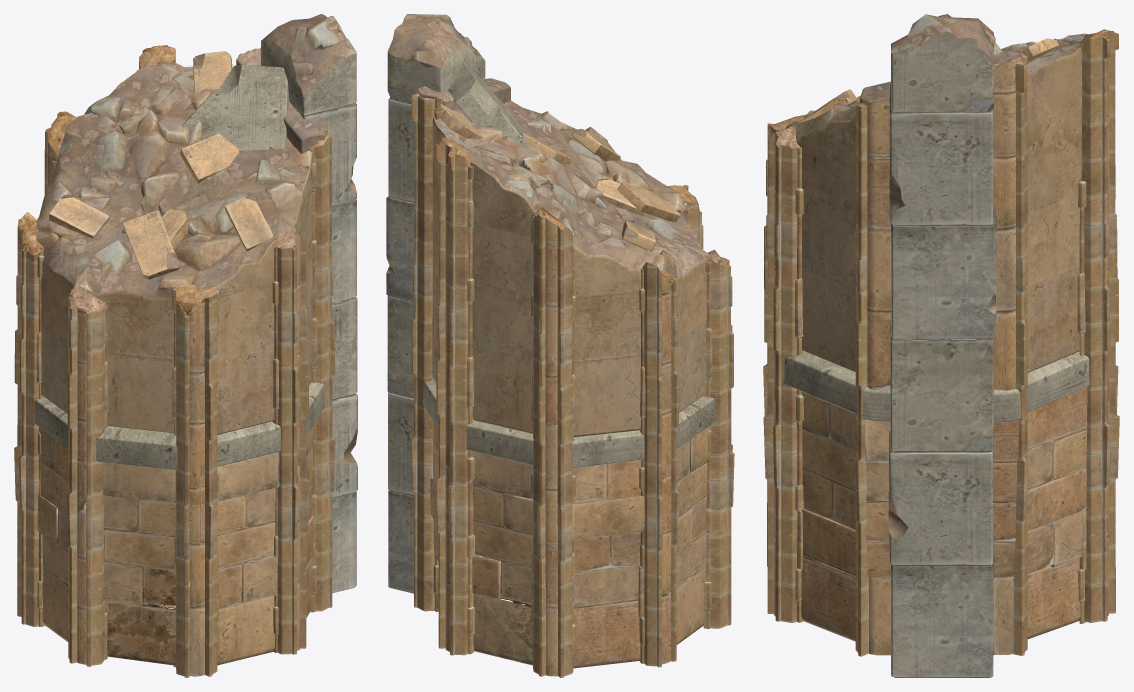
3 renders of one model, left to right at view 1: azimuth 30°, elevation 25°; view 2: azimuth 150°, elevation 25°; view 3: azimuth 270°, elevation 25°, orthographic. The views are drawn at different scales.
Parts seen in each view (by area): view 1: SM_Magic_Institute_Tower_01v2_LOD0; view 2: SM_Magic_Institute_Tower_01v2_LOD0; view 3: SM_Magic_Institute_Tower_01v2_LOD0.
Part boxes in pixels (x1=…): SM_Magic_Institute_Tower_01v2_LOD0: x1=14, y1=14, x2=357, y2=677; SM_Magic_Institute_Tower_01v2_LOD0: x1=386, y1=14, x2=734, y2=677; SM_Magic_Institute_Tower_01v2_LOD0: x1=763, y1=14, x2=1119, y2=677.
Bounding box in the file's own units: 3.96 × 7.12 × 3.54.
6 materials, 6 textured.
